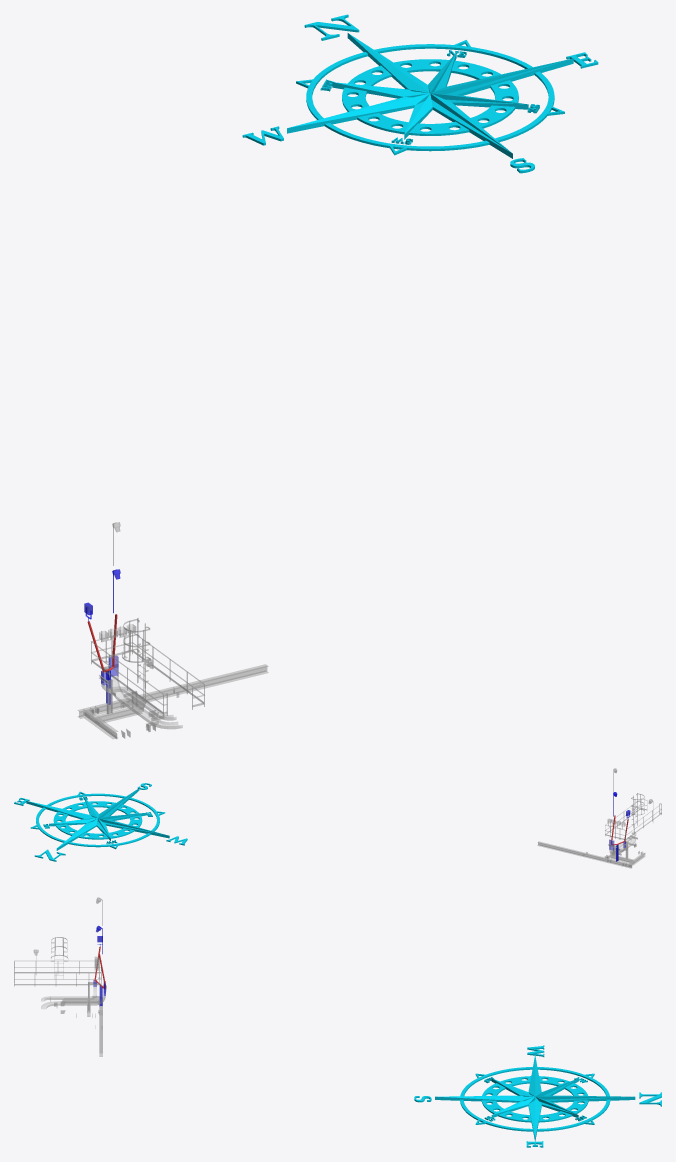
Rendered from mini_model.glb.
3 renders of one model, top to bottom at view 1: azimuth 30°, elevation 25°; view 2: azimuth 150°, elevation 25°; view 3: azimuth 270°, elevation 25°, orthographic. The views are drawn at different scales.
Parts seen in each view (by area): view 1: Compass, IfcBuildingElementProxy/None.32782, IfcBuildingElementProxy/None.32792; view 2: Compass, IfcBuildingElementProxy/None.32782, IfcBuildingElementProxy/None.32792, IfcBuildingElementProxy/None.32790; view 3: Compass, IfcBuildingElementProxy/None.32792.
Part boxes in pixels (box(x1,y1,x2,y2)): Compass: box(242, 14, 598, 173); IfcBuildingElementProxy/None.32782: box(78, 664, 268, 718); IfcBuildingElementProxy/None.32792: box(91, 632, 204, 716); Compass: box(14, 783, 187, 861); IfcBuildingElementProxy/None.32782: box(537, 841, 632, 868); IfcBuildingElementProxy/None.32792: box(605, 798, 661, 841); IfcBuildingElementProxy/None.32790: box(631, 793, 644, 827); Compass: box(414, 1045, 661, 1147); IfcBuildingElementProxy/None.32792: box(14, 960, 101, 986).
Size of the model in its own units: 42.57 by 8.82 by 45.29.
